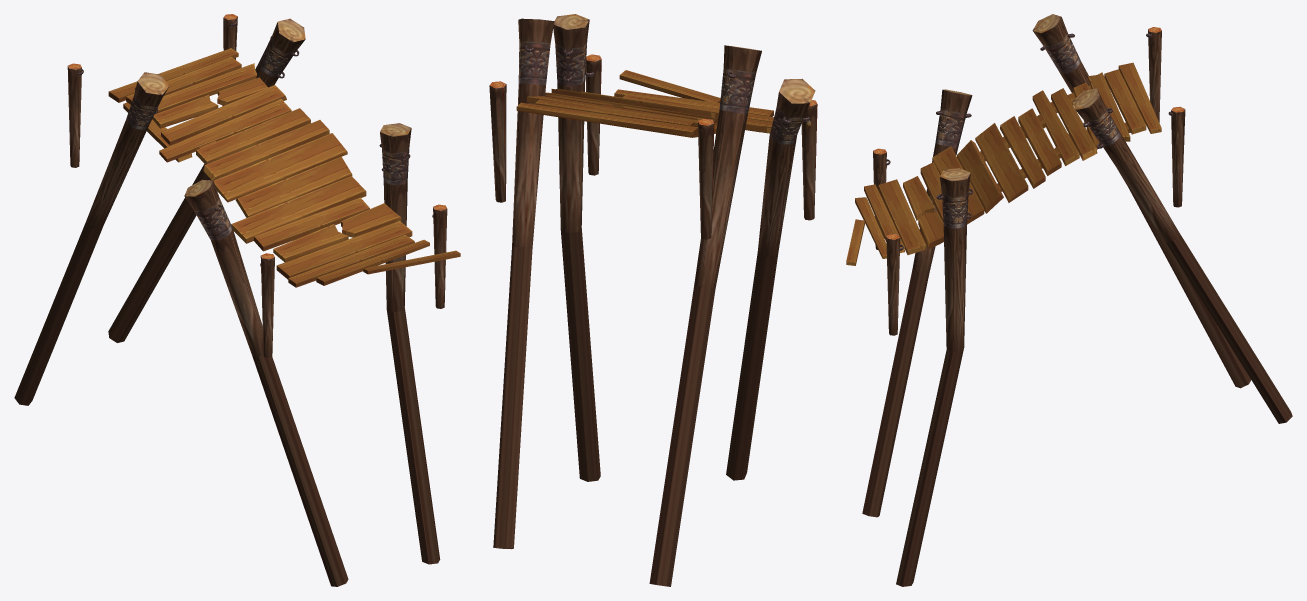
File: qiao_001.FBX
3 views of the same model, side by side, from view 1: azimuth 30°, elevation 25°; view 2: azimuth 150°, elevation 25°; view 3: azimuth 270°, elevation 25° (orthographic). The views are drawn at different scales.
Parts seen in each view (by area): view 1: qiao_001; view 2: qiao_001; view 3: qiao_001.
Boxes of the visible parts, x1,y1,x2,y2 form: qiao_001: (14,14,460,586); qiao_001: (489,14,817,586); qiao_001: (846,14,1292,586).
Bounding box in the file's own units: 971 × 1776 × 1534.
Materials: 1 (1 with a texture image).
